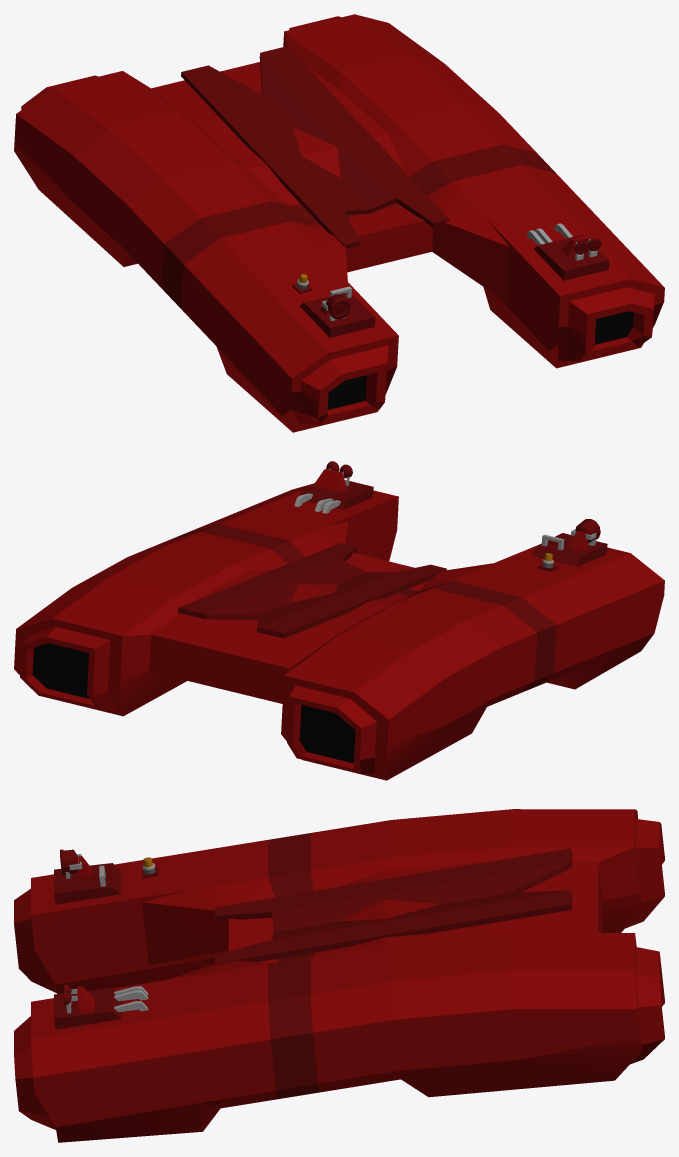
Rendered from Player_Model_Tank.fbx.
The picture shows the model from 3 angles, top to bottom: view 1: azimuth 30°, elevation 25°; view 2: azimuth 150°, elevation 25°; view 3: azimuth 270°, elevation 25°; orthographic projection. The views are drawn at different scales.
Visible parts, largest first — view 1: hoverTank_body, hoverTank_dtailPlate, hovertank_greeble_10, hovertank_greeble_11; view 2: hoverTank_body, hoverTank_dtailPlate, hovertank_greeble_11, hovertank_greeble_10, hovertank_spotlightSupport4; view 3: hoverTank_body, hoverTank_dtailPlate, hovertank_greeble_11, hovertank_greeble_10.
Part boxes in pixels (<box>): hoverTank_body: <box>14,14,664,432</box>; hoverTank_dtailPlate: <box>181,46,449,248</box>; hovertank_greeble_10: <box>534,234,609,280</box>; hovertank_greeble_11: <box>300,292,375,337</box>; hoverTank_body: <box>14,484,664,780</box>; hoverTank_dtailPlate: <box>178,543,446,638</box>; hovertank_greeble_11: <box>532,533,607,566</box>; hovertank_greeble_10: <box>299,481,373,509</box>; hovertank_spotlightSupport4: <box>313,469,346,492</box>; hoverTank_body: <box>14,809,664,1142</box>; hoverTank_dtailPlate: <box>215,848,571,964</box>; hovertank_greeble_11: <box>54,863,121,904</box>; hovertank_greeble_10: <box>54,988,121,1029</box>.
Bounding box in the file's own units: 10.29 × 4.2 × 14.23.
